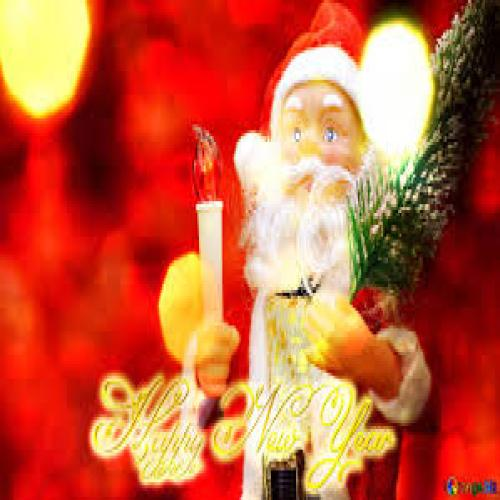Santa: (190, 1, 439, 487)
